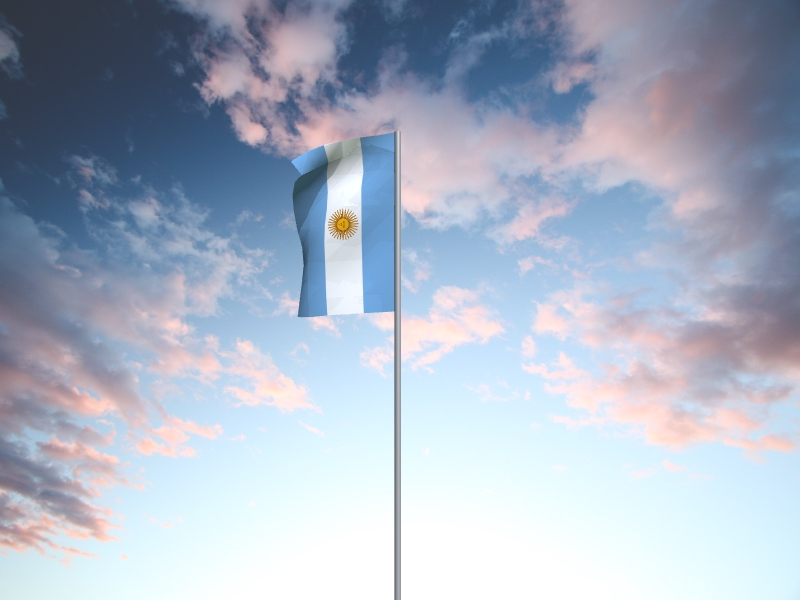ar: (290, 135, 395, 319)
